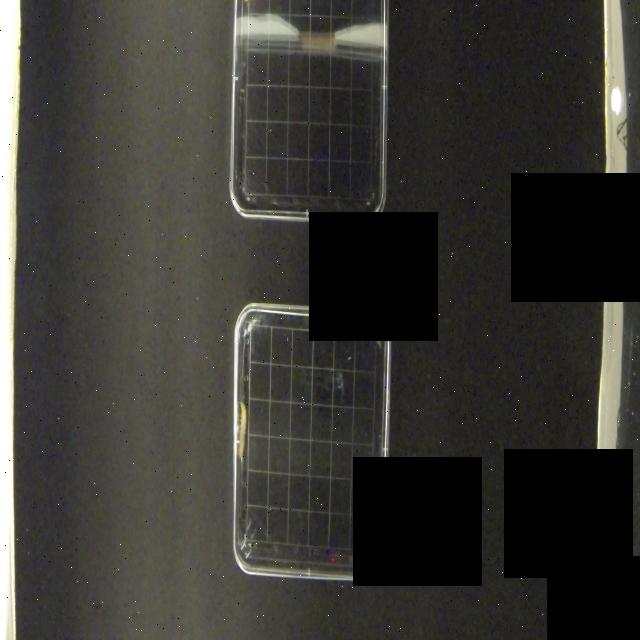larva: (237, 400, 249, 468)
